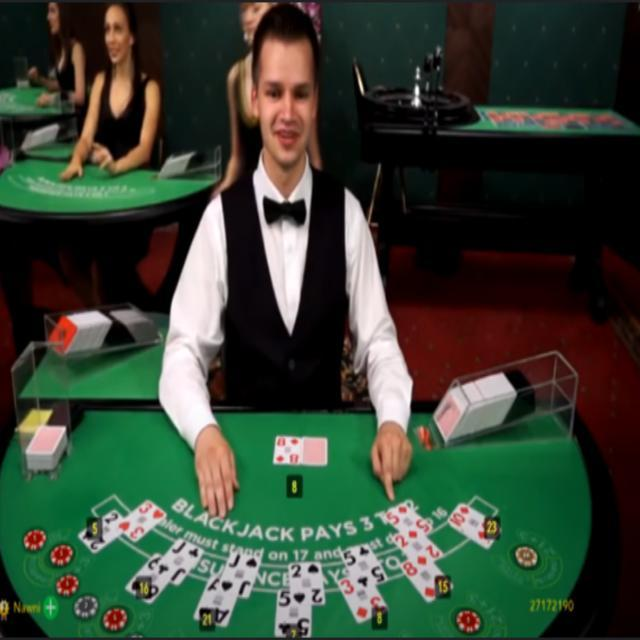Card-10: (447, 501, 501, 548)
Card-2: (393, 532, 443, 573), (79, 510, 124, 554), (290, 563, 325, 604)
Card-3: (338, 576, 388, 623), (117, 500, 166, 542)
Card-5: (341, 543, 388, 592), (383, 503, 432, 546), (276, 590, 312, 637)
Card-6: (125, 553, 169, 606)
Card-8: (401, 557, 453, 603), (274, 436, 301, 464)
Card-A: (193, 574, 236, 626)
Card-J: (155, 538, 204, 586), (218, 551, 261, 601)
